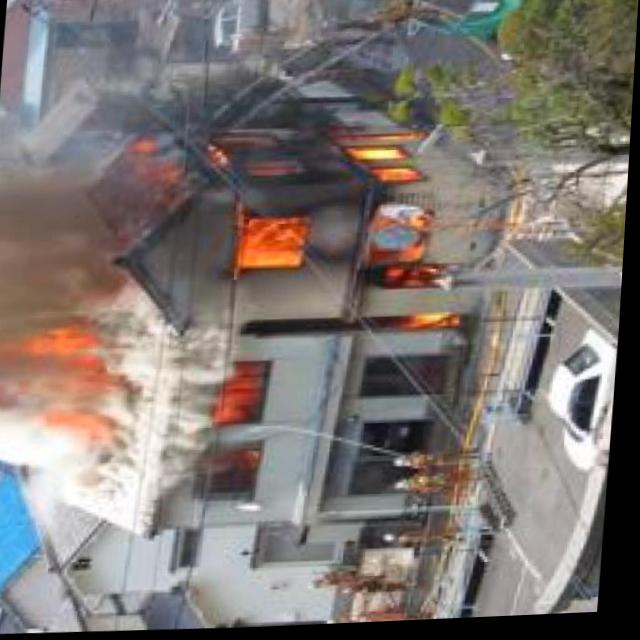Fire: (103, 108, 460, 308), (0, 320, 116, 450), (214, 362, 270, 438)
